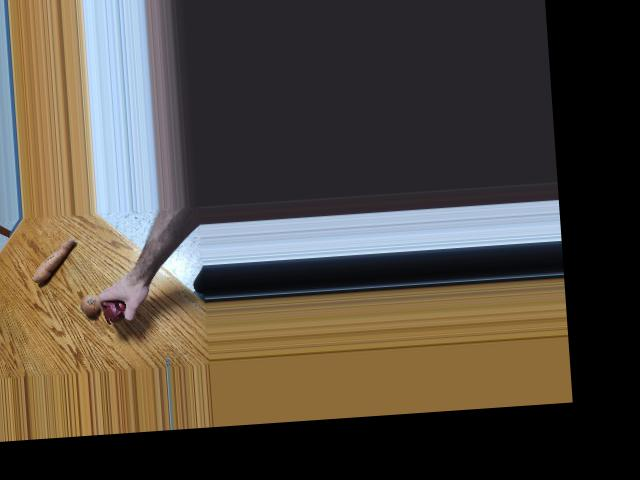onion: (78, 293, 104, 317)
